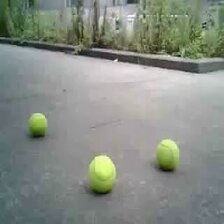tennis: (86, 155, 115, 192), (157, 140, 179, 169), (27, 112, 48, 136)
